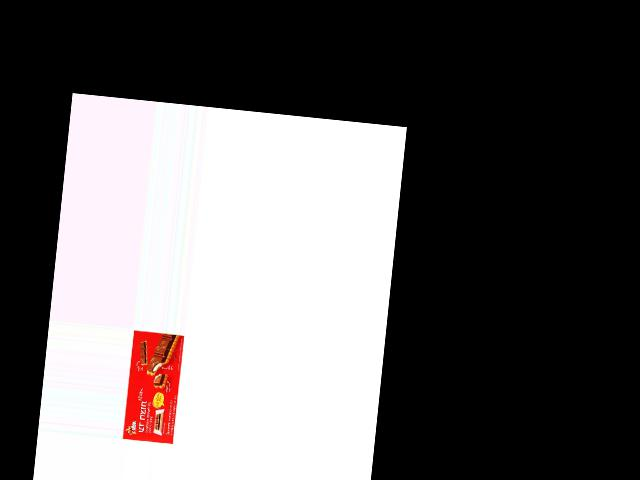chocolate: (122, 329, 184, 446)
